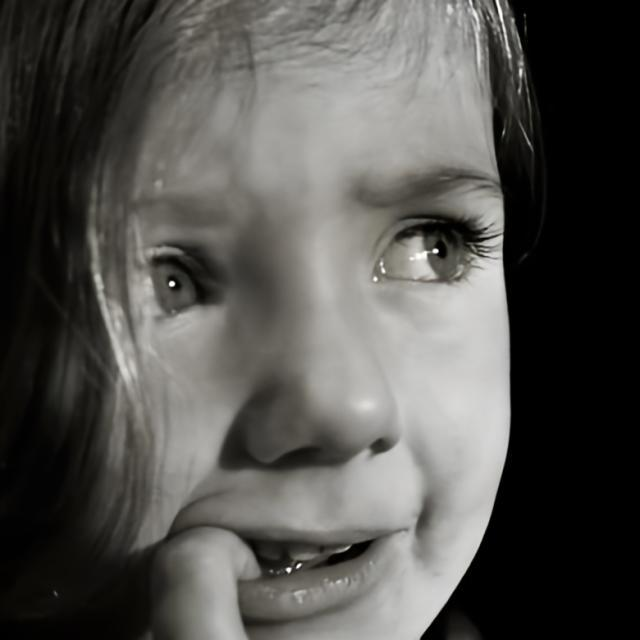fear: (110, 1, 513, 640)
